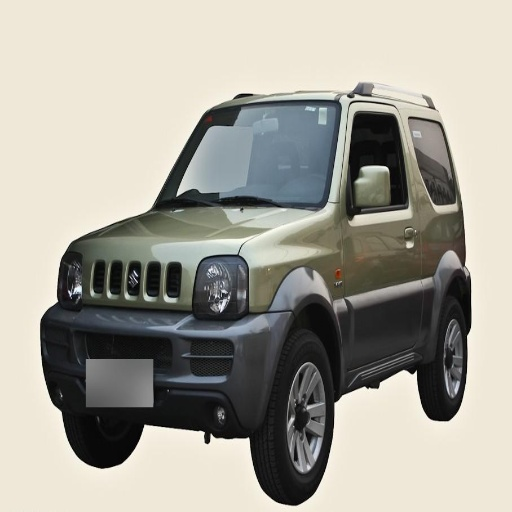front_bumper: (51, 238, 290, 428)
front_glass: (156, 104, 339, 208)
front_left_door: (345, 106, 420, 371)
